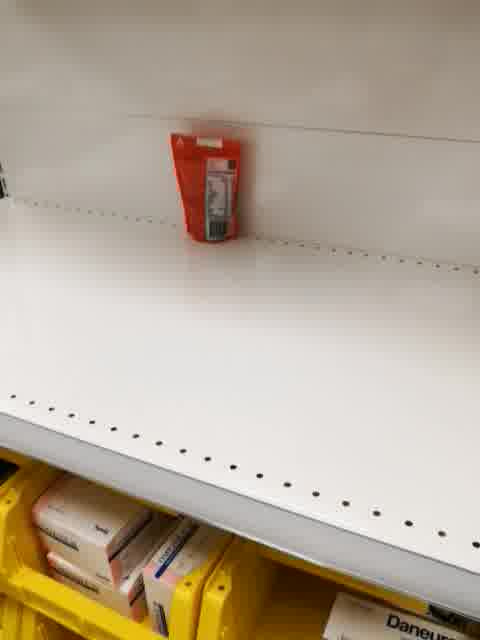whitechia: (169, 129, 248, 246)
